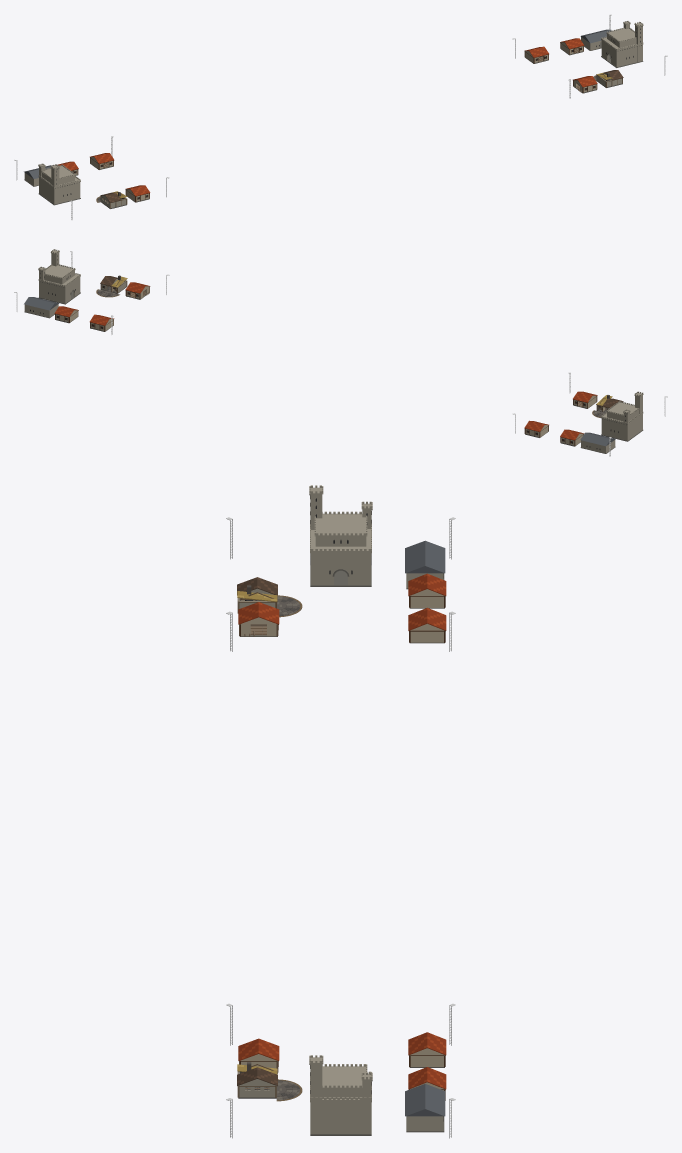
File: castle_interiors_v2_2.fbx
The picture shows the model from 3 angles, top to bottom: view 1: azimuth 30°, elevation 25°; view 2: azimuth 150°, elevation 25°; view 3: azimuth 270°, elevation 25°; orthographic projection. The views are drawn at different scales.
Parts seen in each view (by area): view 1: B_Keep, A_Keep, B_Barracks; view 2: B_Keep, A_Keep, A_Barracks, B_Barracks; view 3: A_Keep, B_Keep, B_Barracks, A_Barracks.
Part boxes in pixels (x1,y1,x2,y2): B_Keep: [601, 21, 643, 67]; A_Keep: [38, 163, 80, 205]; B_Barracks: [580, 29, 611, 50]; B_Keep: [38, 249, 80, 304]; A_Keep: [601, 391, 643, 441]; A_Barracks: [580, 432, 615, 453]; B_Barracks: [24, 297, 59, 318]; A_Keep: [309, 485, 372, 586]; B_Keep: [309, 1055, 372, 1135]; B_Barracks: [405, 1084, 445, 1132]; A_Barracks: [405, 540, 445, 589].
Bounding box in the file's own units: 1008 × 60.6 × 168.
